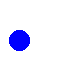circle: (9, 30, 29, 50)
